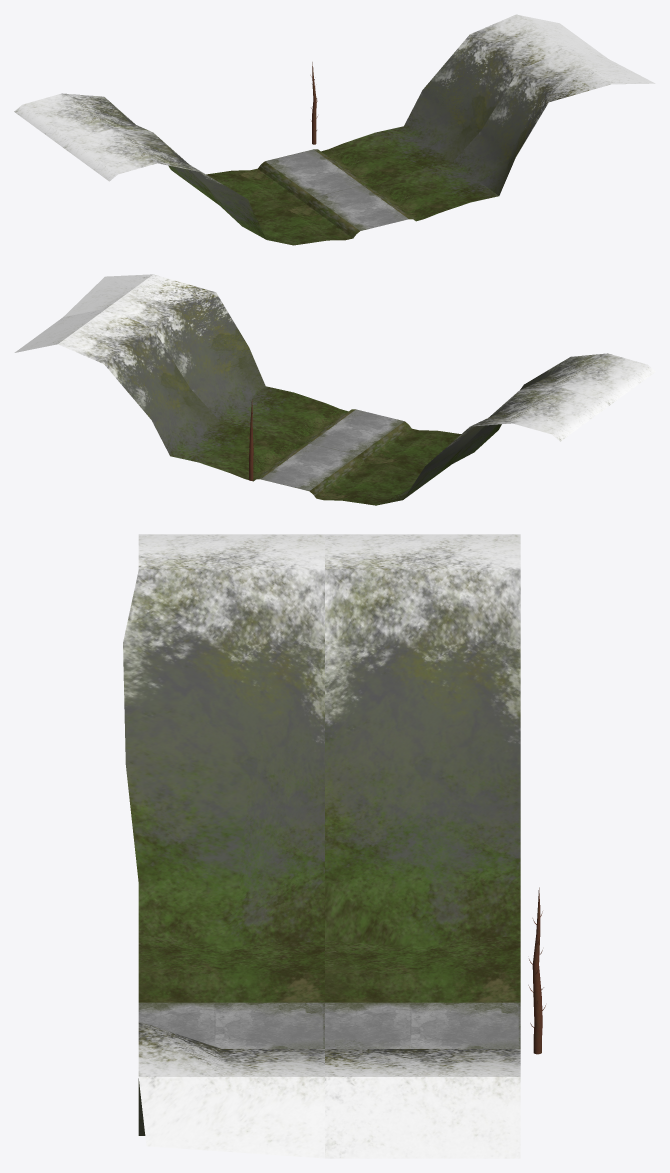
File: Ground.fbx
3 renders of one model, top to bottom at view 1: azimuth 30°, elevation 25°; view 2: azimuth 150°, elevation 25°; view 3: azimuth 270°, elevation 25°, orthographic. The views are drawn at different scales.
Parts seen in each view (by area): view 1: pPlane3; view 2: pPlane3; view 3: pPlane3, pCylinder1.
Boxes of the visible parts, <box> form: pPlane3: <box>14,14,655,245</box>; pPlane3: <box>14,274,655,505</box>; pPlane3: <box>123,534,520,1158</box>; pCylinder1: <box>532,887,542,1054</box>.
Bounding box in the file's own units: 178 × 38.93 × 59.59.
